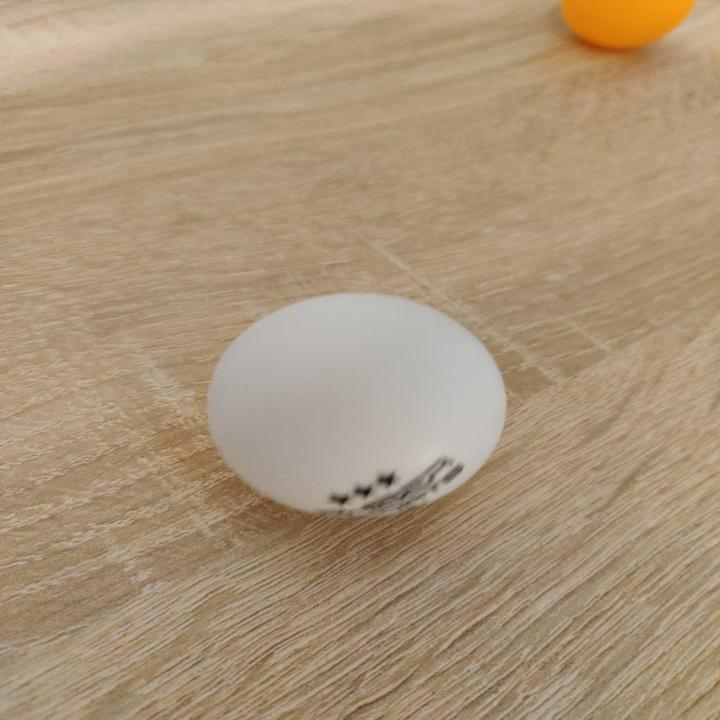orange: (557, 0, 697, 52)
white: (202, 290, 510, 521)
